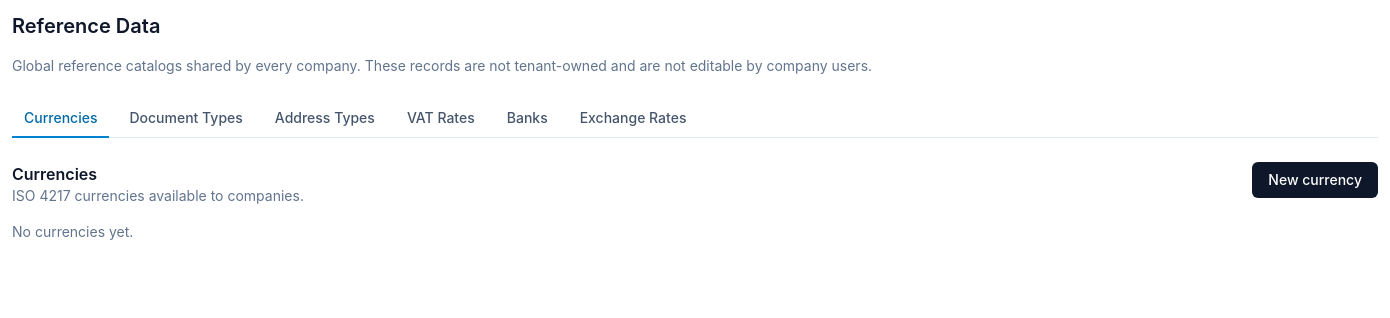
Test: AdminReferenceDataPage › switches to the document types catalog
Click the tab "Document Types": click(186, 119) [118, 100, 255, 138]
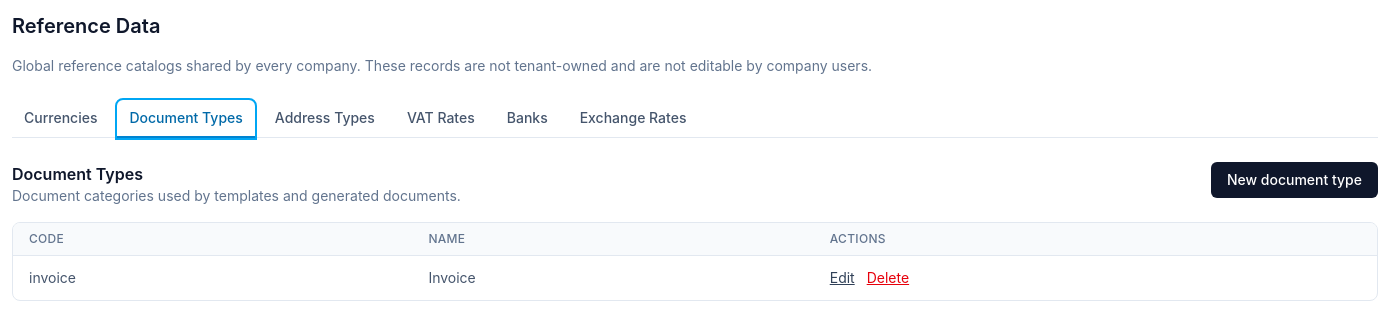
Expected: the text "invoice" is shown, [13, 256, 412, 300]
Expected: the text "Invoice" is shown, [412, 256, 814, 300]
